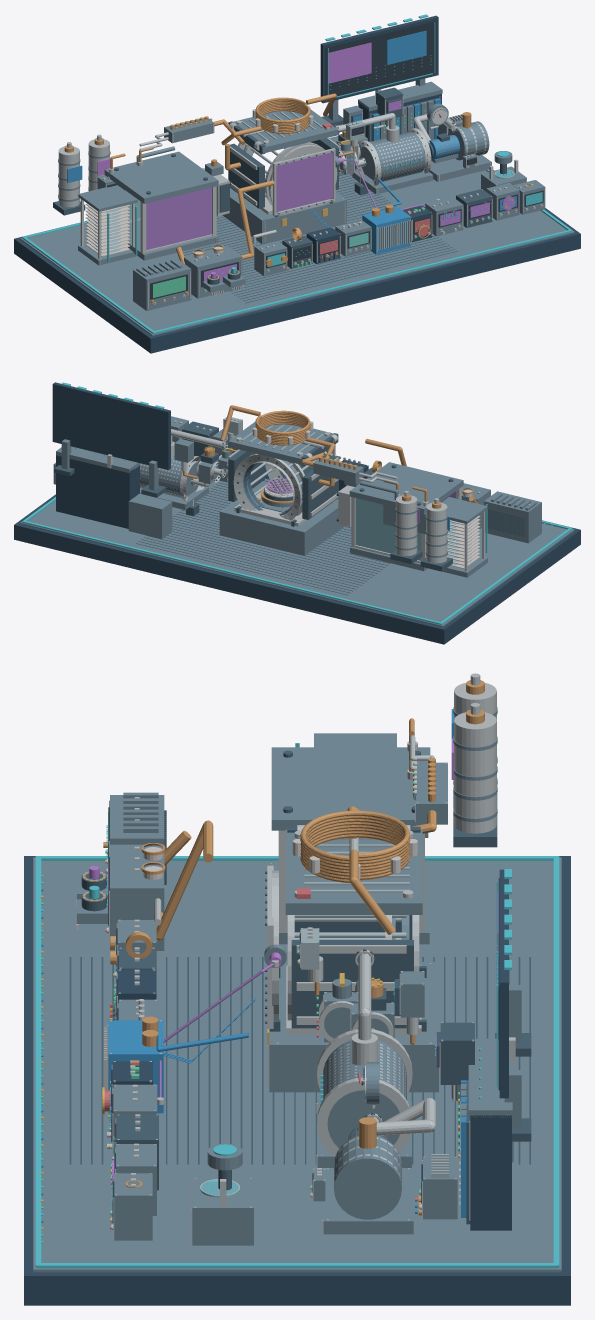
File: Level71_Complete_ArtKit_Showcase.glb
3 views of the same model, one above another, from view 1: azimuth 30°, elevation 25°; view 2: azimuth 150°, elevation 25°; view 3: azimuth 270°, elevation 25° (orthographic). The views are drawn at different scales.
Parts seen in each view (by area): view 1: Level71_Complete_ArtKit_Showcase_Part_001, Level71_Complete_ArtKit_Showcase_Part_000, Level71_Complete_ArtKit_Showcase_Part_2671, Level71_Complete_ArtKit_Showcase_Part_1281, Level71_Complete_ArtKit_Showcase_Part_1280, Level71_Complete_ArtKit_Showcase_Part_168, Level71_Complete_ArtKit_Showcase_Part_343, Level71_Complete_ArtKit_Showcase_Part_1332, Level71_Complete_ArtKit_Showcase_Part_304, Level71_Complete_ArtKit_Showcase_Part_1943, Level71_Complete_ArtKit_Showcase_Part_2670, Level71_Complete_ArtKit_Showcase_Part_003 (+29 smaller); view 2: Level71_Complete_ArtKit_Showcase_Part_001, Level71_Complete_ArtKit_Showcase_Part_000, Level71_Complete_ArtKit_Showcase_Part_2670, Level71_Complete_ArtKit_Showcase_Part_2523, Level71_Complete_ArtKit_Showcase_Part_168, Level71_Complete_ArtKit_Showcase_Part_1281, Level71_Complete_ArtKit_Showcase_Part_1943, Level71_Complete_ArtKit_Showcase_Part_1279, Level71_Complete_ArtKit_Showcase_Part_2628, Level71_Complete_ArtKit_Showcase_Part_304, Level71_Complete_ArtKit_Showcase_Part_002, Level71_Complete_ArtKit_Showcase_Part_176 (+18 smaller); view 3: Level71_Complete_ArtKit_Showcase_Part_001, Level71_Complete_ArtKit_Showcase_Part_000, Level71_Complete_ArtKit_Showcase_Part_1281, Level71_Complete_ArtKit_Showcase_Part_168, Level71_Complete_ArtKit_Showcase_Part_304, Level71_Complete_ArtKit_Showcase_Part_2523, Level71_Complete_ArtKit_Showcase_Part_1538, Level71_Complete_ArtKit_Showcase_Part_1824, Level71_Complete_ArtKit_Showcase_Part_1332, Level71_Complete_ArtKit_Showcase_Part_288, Level71_Complete_ArtKit_Showcase_Part_2002, Level71_Complete_ArtKit_Showcase_Part_2452 (+29 smaller).
Boxes of the visible parts, x1,y1,x2,y2 form: Level71_Complete_ArtKit_Showcase_Part_001: [20, 154, 574, 335]; Level71_Complete_ArtKit_Showcase_Part_000: [14, 170, 580, 353]; Level71_Complete_ArtKit_Showcase_Part_2671: [325, 20, 436, 96]; Level71_Complete_ArtKit_Showcase_Part_1281: [104, 151, 218, 203]; Level71_Complete_ArtKit_Showcase_Part_1280: [146, 187, 211, 250]; Level71_Complete_ArtKit_Showcase_Part_168: [222, 188, 346, 244]; Level71_Complete_ArtKit_Showcase_Part_343: [276, 152, 332, 211]; Level71_Complete_ArtKit_Showcase_Part_1332: [360, 132, 425, 181]; Level71_Complete_ArtKit_Showcase_Part_304: [233, 109, 338, 153]; Level71_Complete_ArtKit_Showcase_Part_1943: [133, 259, 191, 310]; Level71_Complete_ArtKit_Showcase_Part_2670: [320, 15, 438, 103]; Level71_Complete_ArtKit_Showcase_Part_003: [152, 230, 572, 333]; Level71_Complete_ArtKit_Showcase_Part_001: [20, 478, 574, 626]; Level71_Complete_ArtKit_Showcase_Part_000: [14, 494, 580, 644]; Level71_Complete_ArtKit_Showcase_Part_2670: [52, 382, 170, 469]; Level71_Complete_ArtKit_Showcase_Part_2523: [56, 455, 139, 528]; Level71_Complete_ArtKit_Showcase_Part_168: [219, 481, 344, 555]; Level71_Complete_ArtKit_Showcase_Part_1281: [349, 462, 463, 514]; Level71_Complete_ArtKit_Showcase_Part_1943: [484, 491, 541, 543]; Level71_Complete_ArtKit_Showcase_Part_1279: [355, 498, 421, 560]; Level71_Complete_ArtKit_Showcase_Part_2628: [128, 493, 172, 538]; Level71_Complete_ArtKit_Showcase_Part_304: [228, 421, 333, 465]; Level71_Complete_ArtKit_Showcase_Part_002: [22, 520, 442, 624]; Level71_Complete_ArtKit_Showcase_Part_176: [233, 453, 302, 520]; Level71_Complete_ArtKit_Showcase_Part_001: [33, 857, 561, 1272]; Level71_Complete_ArtKit_Showcase_Part_000: [24, 856, 570, 1305]; Level71_Complete_ArtKit_Showcase_Part_1281: [271, 747, 430, 830]; Level71_Complete_ArtKit_Showcase_Part_168: [269, 962, 438, 1092]; Level71_Complete_ArtKit_Showcase_Part_304: [285, 829, 422, 914]; Level71_Complete_ArtKit_Showcase_Part_2523: [470, 1115, 511, 1230]; Level71_Complete_ArtKit_Showcase_Part_1538: [334, 1136, 401, 1219]; Level71_Complete_ArtKit_Showcase_Part_1824: [454, 712, 496, 833]; Level71_Complete_ArtKit_Showcase_Part_1332: [323, 1040, 406, 1148]; Level71_Complete_ArtKit_Showcase_Part_288: [291, 940, 413, 1028]; Level71_Complete_ArtKit_Showcase_Part_2002: [110, 844, 164, 950]; Level71_Complete_ArtKit_Showcase_Part_2452: [192, 1178, 253, 1245].
Bounding box in the file's own units: 15.8 × 5.51 × 8.7.
